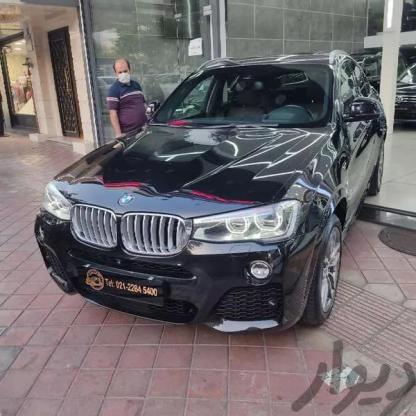Car: (38, 58, 386, 348), (384, 54, 416, 137)
